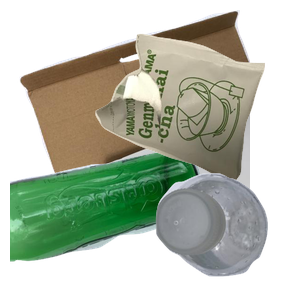cardboard: (16, 10, 256, 190)
glass: (10, 149, 203, 300)
plastic: (153, 170, 300, 300)
trash: (93, 31, 300, 205)
